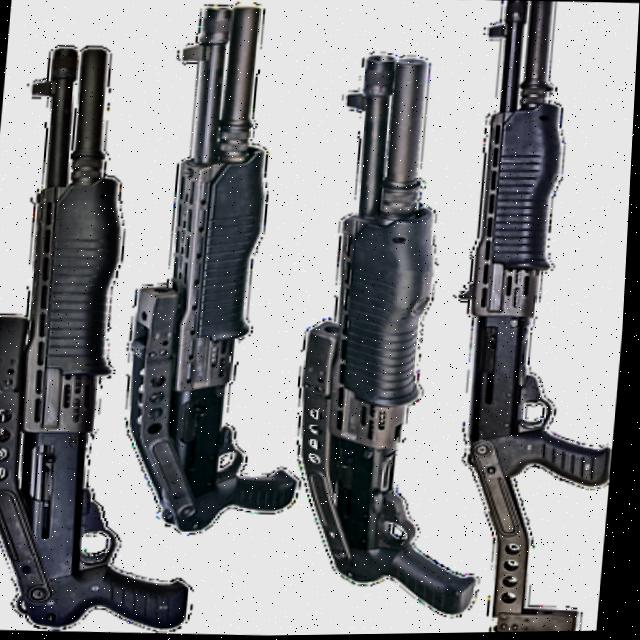firearm: (0, 42, 237, 633), (292, 54, 524, 617), (442, 0, 640, 635), (118, 1, 334, 539)
